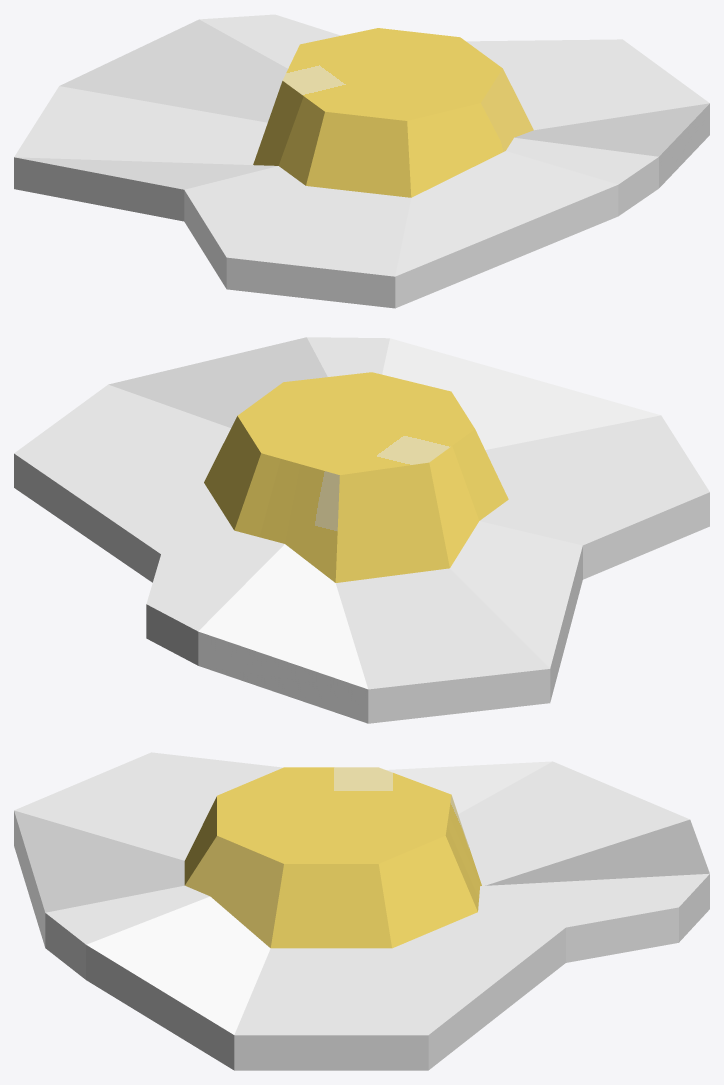
The model's file is Egg Model.fbx.
3 renders of one model, top to bottom at view 1: azimuth 30°, elevation 25°; view 2: azimuth 150°, elevation 25°; view 3: azimuth 270°, elevation 25°, orthographic. The views are drawn at different scales.
Visible parts, largest first — view 1: cylinder; view 2: cylinder; view 3: cylinder.
Part boxes in pixels (bbox=[...]): cylinder: bbox=[14, 14, 709, 308]; cylinder: bbox=[14, 337, 709, 723]; cylinder: bbox=[14, 752, 709, 1070].
Size of the model in its own units: 37.88 by 7.81 by 37.1.
Materials: 1 (1 with a texture image).
